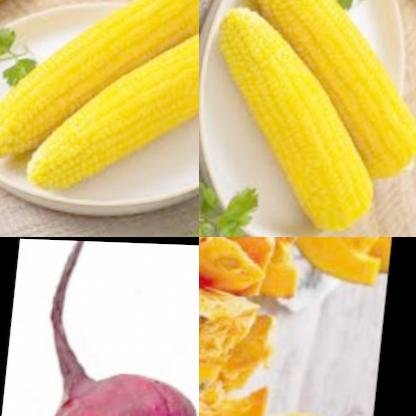beet: (34, 326, 199, 416)
corn: (199, 8, 400, 236), (0, 0, 199, 163), (33, 11, 199, 201), (239, 0, 416, 178)
pumpkin: (199, 329, 284, 416), (199, 237, 309, 301), (199, 309, 260, 416), (231, 237, 332, 296), (199, 278, 268, 360), (283, 237, 400, 285)
